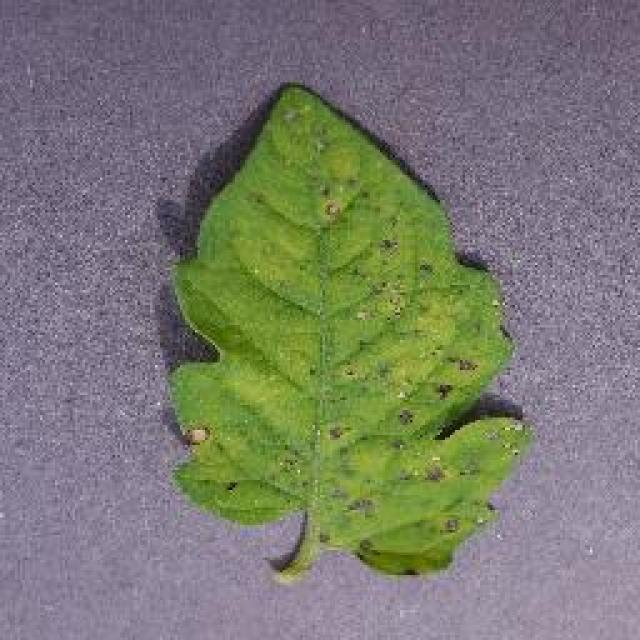Tomato Septoria spot leaf: (170, 81, 526, 574)
